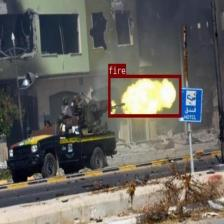fire: (108, 74, 181, 117)
